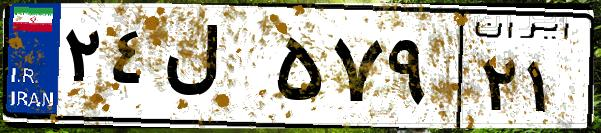1: (525, 38, 570, 115)
2: (57, 26, 110, 100), (475, 38, 525, 113)
4: (110, 28, 158, 98)
5: (270, 28, 330, 110)
7: (330, 28, 385, 110)
9: (385, 28, 445, 110)
ل: (158, 20, 270, 120)
